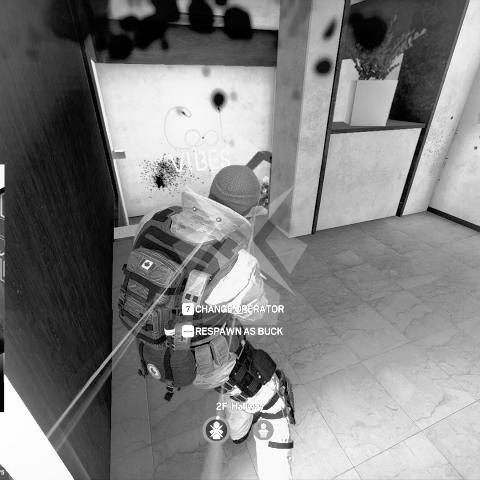Character: (116, 162, 295, 480), (260, 175, 271, 208)
Head: (207, 164, 262, 217), (263, 175, 270, 184)
